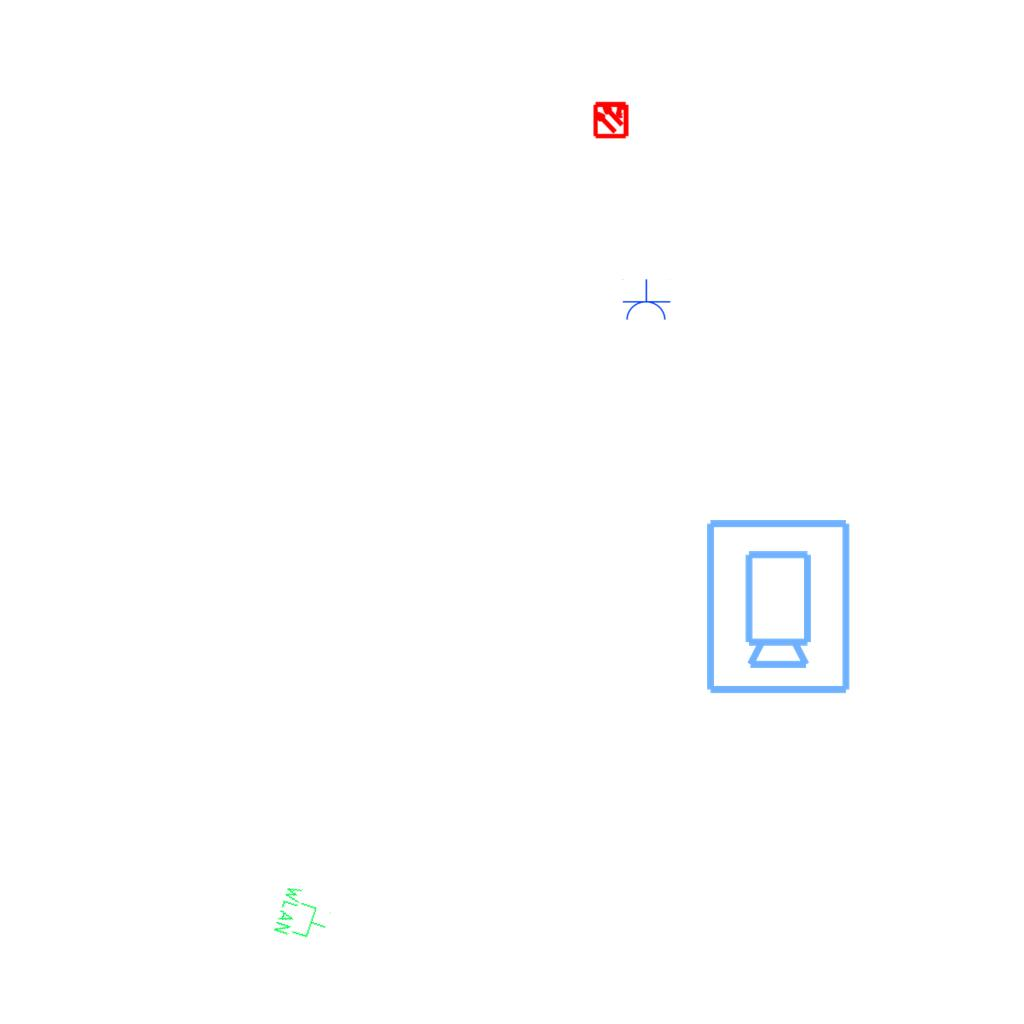KFO_Kamera_mit_Festobjektiv: (700, 515, 854, 697)
OT_Multisensormelder_(Kombination_RMO_WMD): (583, 91, 639, 147)
Schukosteckdose_einfach: (621, 279, 671, 322)
WLAN: (271, 882, 337, 948)
